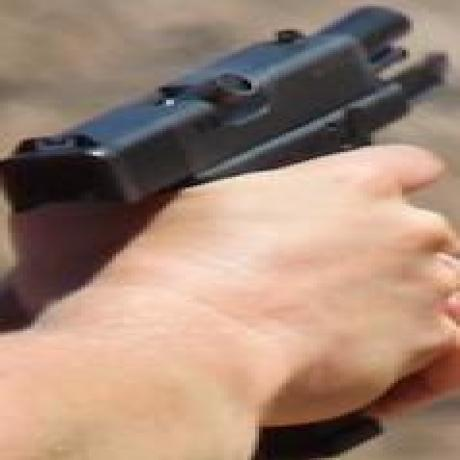1: (0, 140, 460, 460)
weapon: (8, 7, 460, 205)
